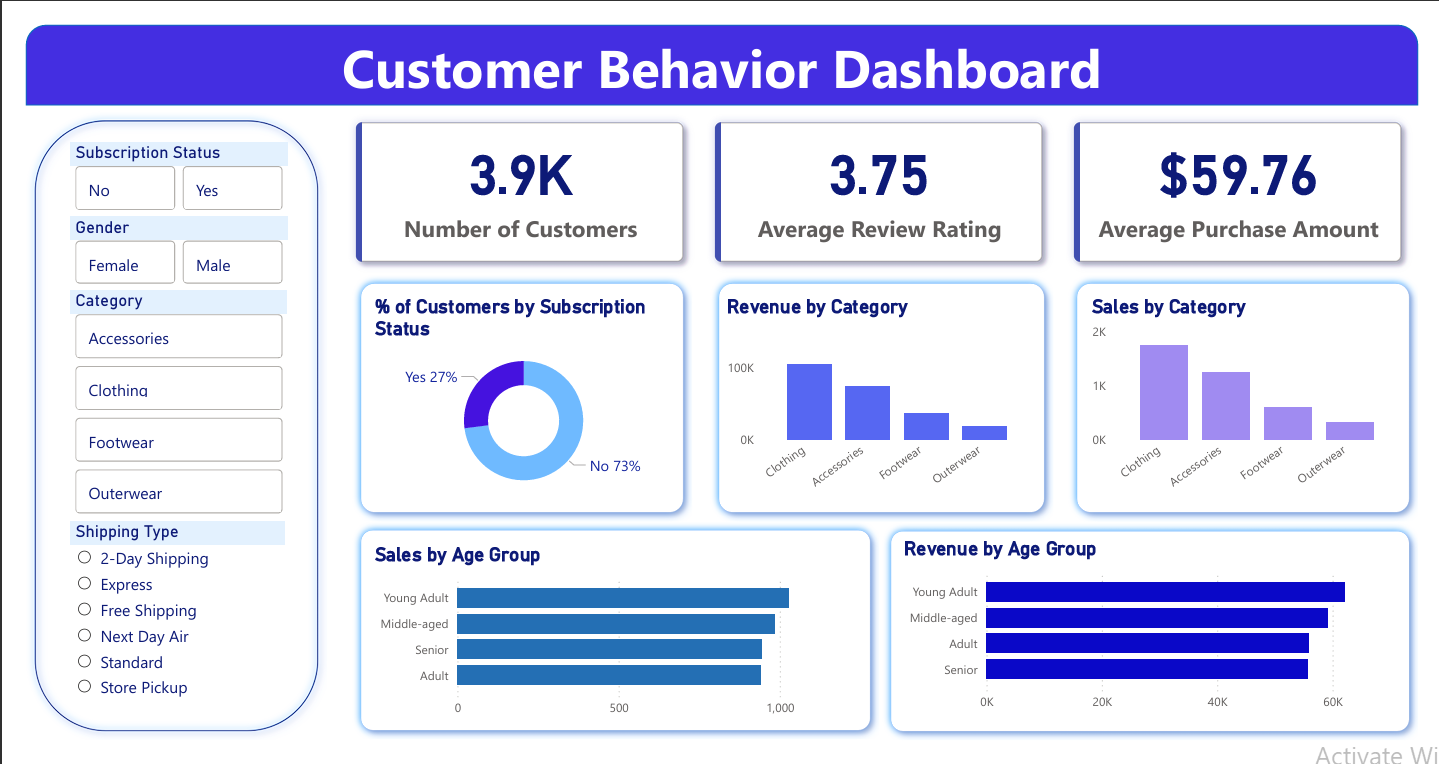

Layout of this report page (visuals, bound fields, positions):
{"tool":"powerbi","page":{"name":"Page 1","canvas":[1400,720],"ordinal":0},"visuals":[{"type":"cardVisual","fields":{"Data":["public customer.Number of Customers","public customer.Average Review Rating","public customer.Average Purchase Amount"]},"box":[314.9,80.6,1085.1,174.6],"z":0},{"type":"shape","box":[0,0,1400,80.6],"z":1000},{"type":"textbox","box":[0,0,1400,80.6],"z":2000},{"type":"shape","box":[328.4,250.7,341.8,247.8],"z":3000},{"type":"donutChart","title":"% of Customers by Subscription Status","fields":{"Category":["public customer.subscription_status"],"Y":["CountNonNull(public customer.customer_id)"]},"box":[346.3,271.6,309,209],"z":4000},{"type":"shape","box":[688.1,250.7,344.8,247.8],"z":5000},{"type":"shape","box":[1047.8,250.7,352.2,247.8],"z":6000},{"type":"clusteredColumnChart","title":"Revenue by Category","fields":{"Y":["Sum(public customer.purchase_amount)"],"Category":["public customer.category"]},"box":[700,271.6,317.9,209],"z":7000},{"type":"clusteredColumnChart","title":"Sales by Category","fields":{"Y":["CountNonNull(public customer.customer_id)"],"Category":["public customer.category"]},"box":[1067.2,271.6,320.9,209],"z":8000},{"type":"shape","box":[0,86.6,303,632.8],"z":9000},{"type":"advancedSlicerVisual","fields":{"Values":["public customer.subscription_status"]},"box":[44.8,117.9,219.4,74.6],"z":10000},{"type":"advancedSlicerVisual","fields":{"Values":["public customer.gender"]},"box":[44.8,192.5,219.4,74.6],"z":11000},{"type":"advancedSlicerVisual","fields":{"Values":["public customer.category"]},"box":[44.8,267.2,217.9,232.8],"z":12000},{"type":"listSlicer","fields":{"Values":["public customer.shipping_type"]},"box":[44.8,498.5,216.4,183.6],"z":13000},{"type":"shape","box":[861.1,500,538.9,218.5],"z":14000},{"type":"clusteredBarChart","title":"Revenue by Age Group","fields":{"Y":["Sum(public customer.purchase_amount)"],"Category":["public customer.age_group"]},"box":[877.8,514.8,509.3,183.3],"z":15000},{"type":"shape","box":[328.4,498.5,529.9,219.4],"z":16000},{"type":"clusteredBarChart","title":"Sales by Age Group","fields":{"Y":["CountNonNull(public customer.customer_id)"],"Category":["public customer.age_group"]},"box":[346.3,520.9,497,183.6],"z":17000}]}

Visuals, with their boxes on the page's 1400x720 design canvas (x1, y1, x2, y2). These are canvas units, not pixel positions in the 1439x764 screenshot, which may show the page scaled, cropped or inside an application window:
cardVisual - public customer.Number of Customers x public customer.Average Review Rating: 315, 81, 1400, 255
shape: 0, 0, 1400, 81
textbox: 0, 0, 1400, 81
shape: 328, 251, 670, 498
"% of Customers by Subscription Status" donutChart: 346, 272, 655, 481
shape: 688, 251, 1033, 498
shape: 1048, 251, 1400, 498
"Revenue by Category" clusteredColumnChart: 700, 272, 1018, 481
"Sales by Category" clusteredColumnChart: 1067, 272, 1388, 481
shape: 0, 87, 303, 719
advancedSlicerVisual - public customer.subscription_status: 45, 118, 264, 192
advancedSlicerVisual - public customer.gender: 45, 192, 264, 267
advancedSlicerVisual - public customer.category: 45, 267, 263, 500
listSlicer - public customer.shipping_type: 45, 498, 261, 682
shape: 861, 500, 1400, 718
"Revenue by Age Group" clusteredBarChart: 878, 515, 1387, 698
shape: 328, 498, 858, 718
"Sales by Age Group" clusteredBarChart: 346, 521, 843, 704
